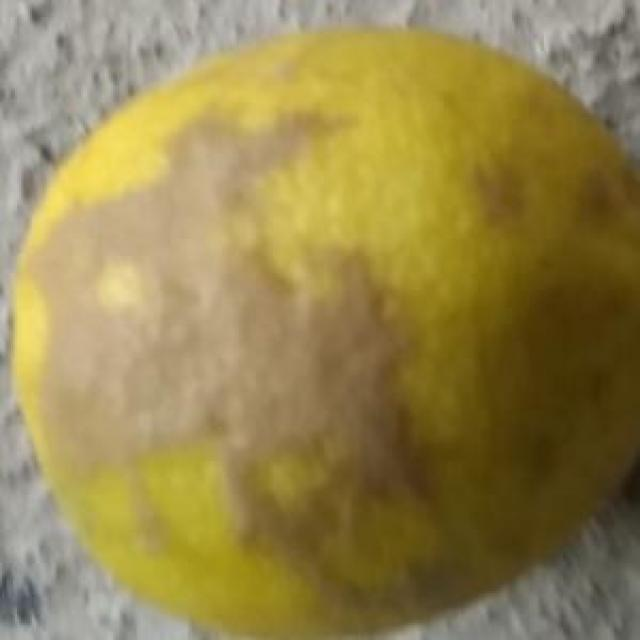lemon: (14, 24, 640, 640)
